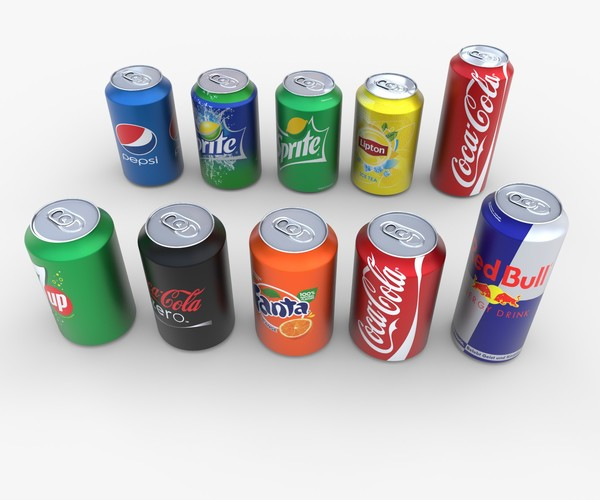can: (21, 197, 134, 352), (347, 210, 445, 363), (138, 202, 236, 352), (249, 204, 340, 358), (352, 66, 427, 196), (101, 65, 182, 185), (187, 69, 264, 192), (271, 70, 342, 197)
